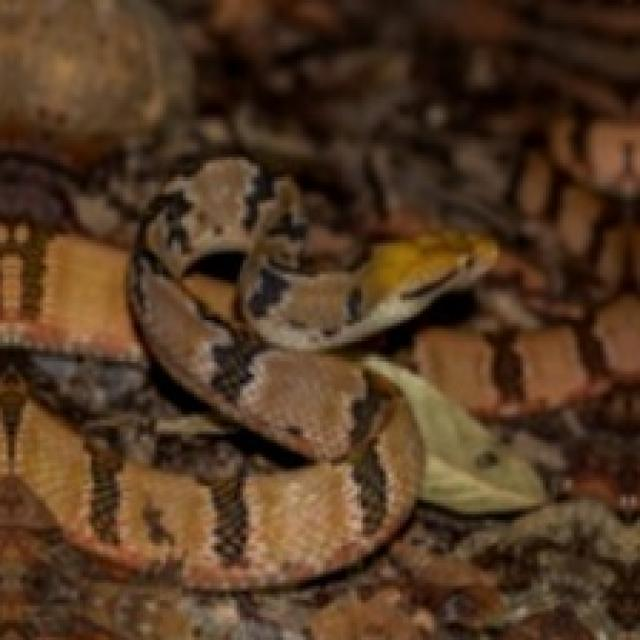dog-toothed cat snake: (0, 156, 544, 589)
